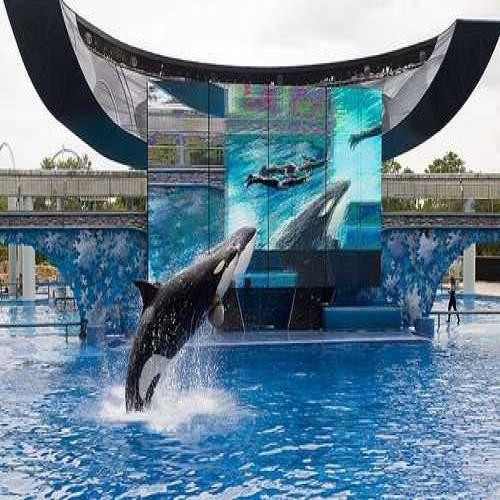killer_whale-endangered: (100, 243, 234, 432), (169, 211, 258, 345), (273, 174, 358, 266)
